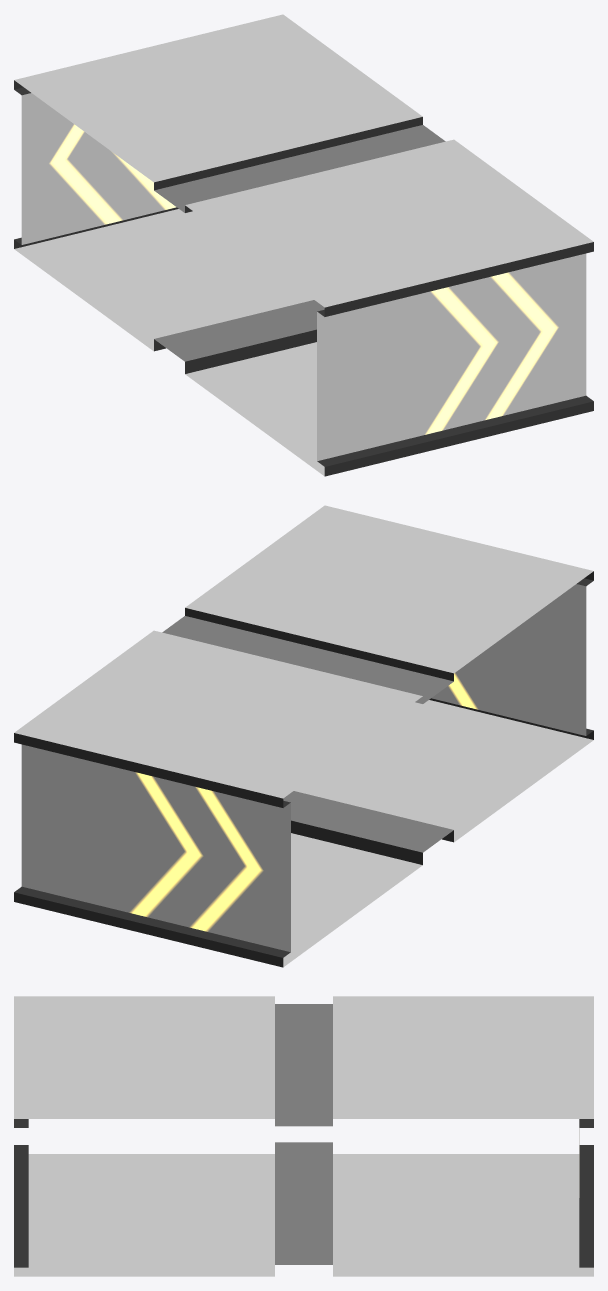
File: LP_GPE_ConvoyerBeltBODY.fbx
The picture shows the model from 3 angles, top to bottom: view 1: azimuth 30°, elevation 25°; view 2: azimuth 150°, elevation 25°; view 3: azimuth 270°, elevation 25°; orthographic projection. The views are drawn at different scales.
Visible parts, largest first — view 1: ConvoyerBeltBODY; view 2: ConvoyerBeltBODY; view 3: ConvoyerBeltBODY.
Part boxes in pixels (x1,y1,x2,y2): ConvoyerBeltBODY: (14, 14, 593, 476); ConvoyerBeltBODY: (14, 505, 593, 967); ConvoyerBeltBODY: (14, 996, 593, 1276).
Bounding box in the file's own units: 100 × 60 × 200.
